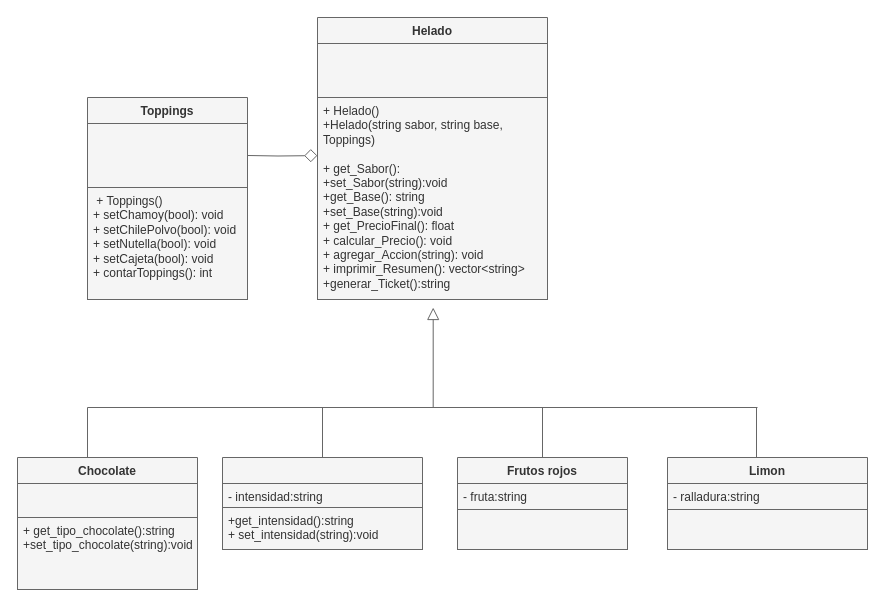
This 885x610 diagram has some shape labels left out. Here are the shapes that lost their labels. From the top down, the box of each, then its label:
(316, 42, 548, 98): # sabor: string #base: string #precio: int
(86, 122, 248, 188): - chamoy:bool -chile_polvo:bool -nutella:bool -cajeta:bool
(16, 482, 198, 518): - tipo_chocolates:string
(222, 456, 422, 550): Café
(456, 508, 628, 550): + get_fruta():string +set_fruta(string):void
(666, 508, 868, 550): + get_ralladura():string + set_ralladura(string):void
